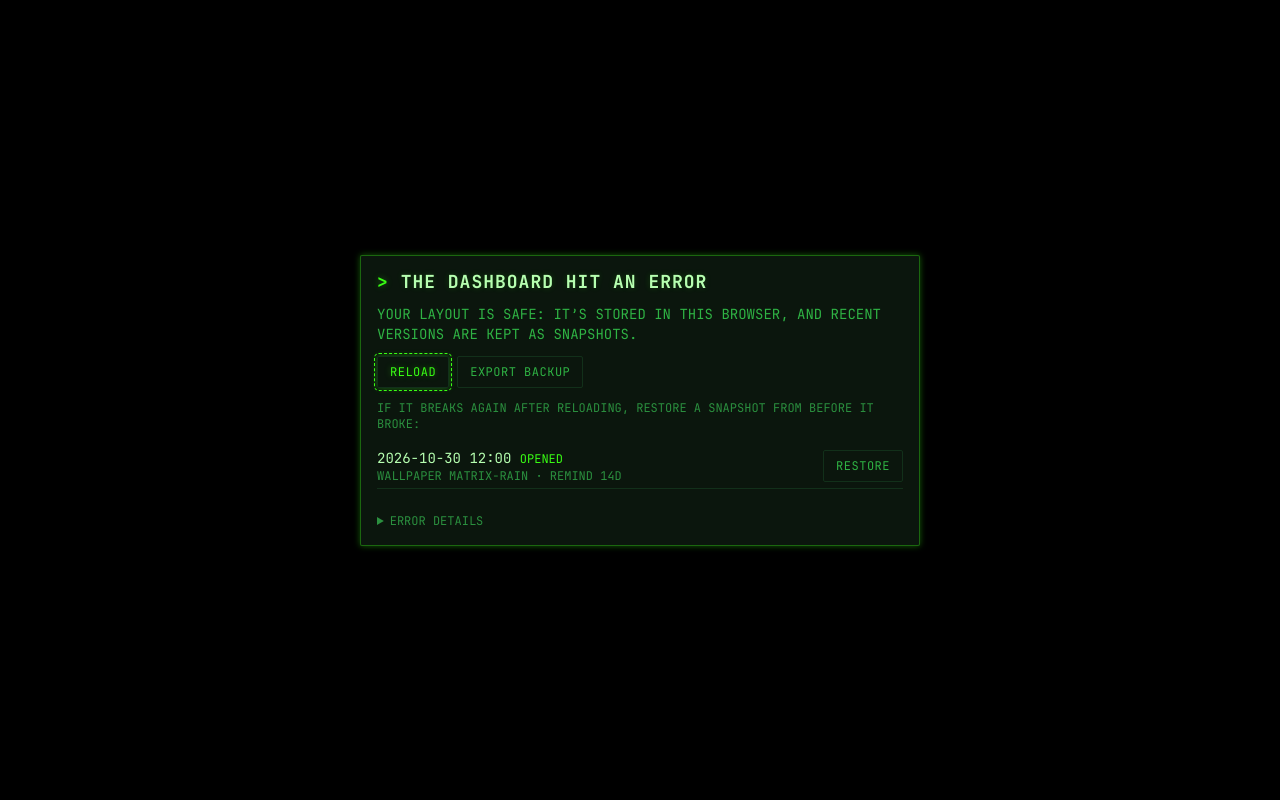
Scenario: crash recovery › offers RELOAD, EXPORT BACKUP and the newest snapshots; a snapshot that can’t be read changes nothing and says so
This screenshot has width=1280, height=800.
expect the heading "> THE DASHBOARD HIT AN ERROR" is shown: met, box [377,270,707,292]
expect the button "EXPORT BACKUP" is shown: met, box [457,356,583,388]
Step 1. Click the button with aria-label "Restore the snapshot from" → {"x": 863, "y": 466}, box [823,450,903,482]
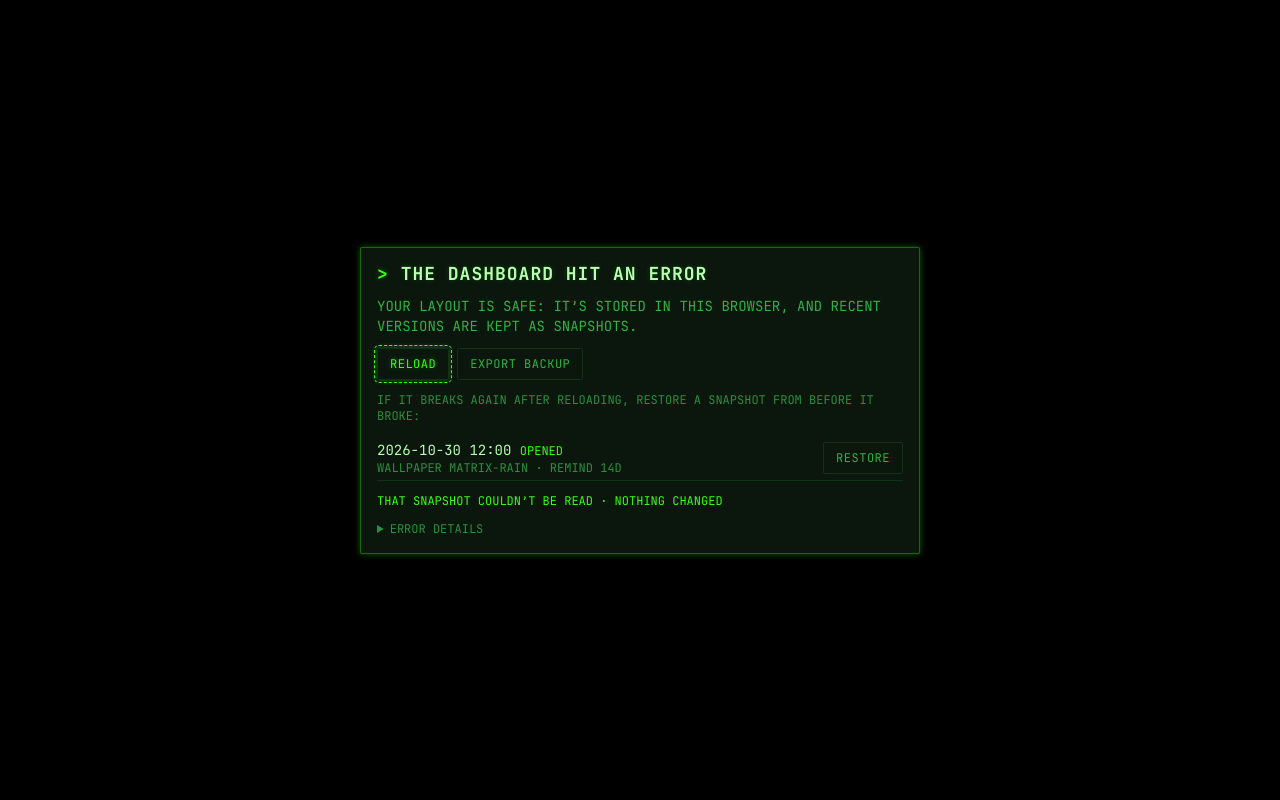
expect the text "THAT SNAPSHOT COULDN’T BE READ · NOTHING CHANGED" is shown: met, box [377,492,723,508]
